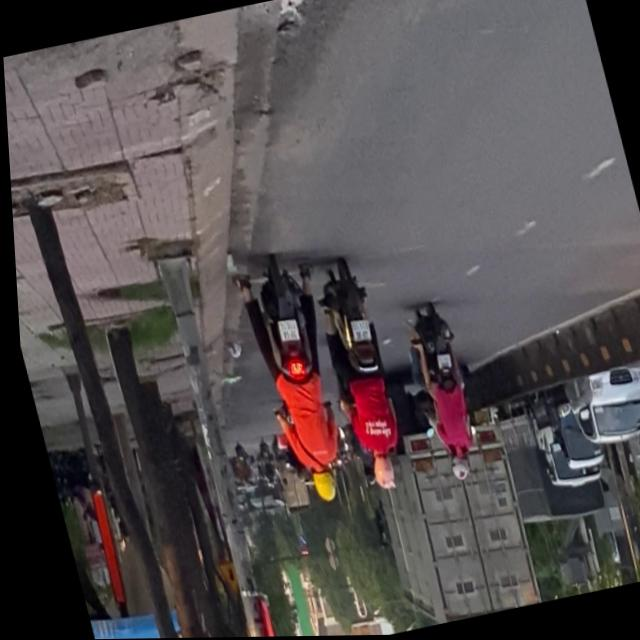helmet: (363, 452, 394, 493), (304, 466, 334, 506)
licenseplate: (228, 250, 359, 512), (302, 255, 413, 498)
nohelmet: (345, 320, 368, 345), (273, 319, 296, 343)
